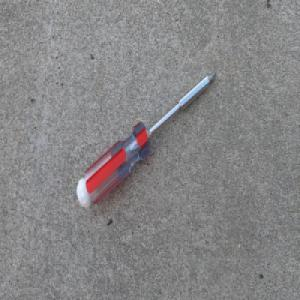Screwdriver: (76, 69, 219, 212)
